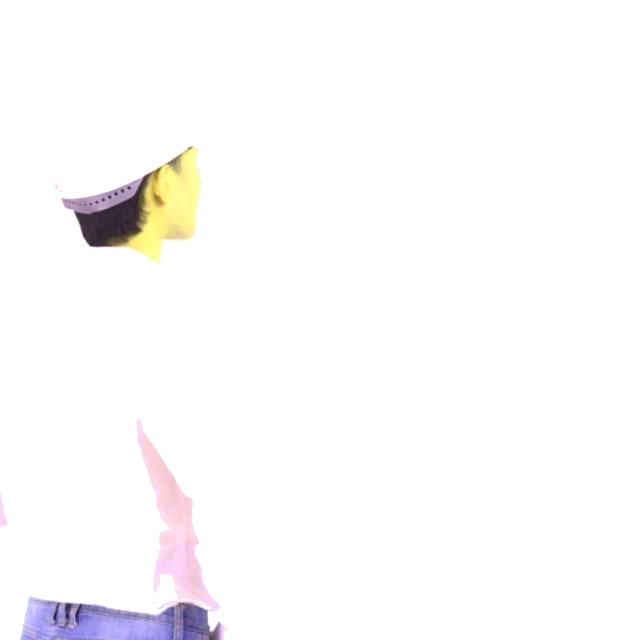Con_Casco: (46, 61, 228, 249)
Sin_Chaleco: (0, 250, 249, 623)
